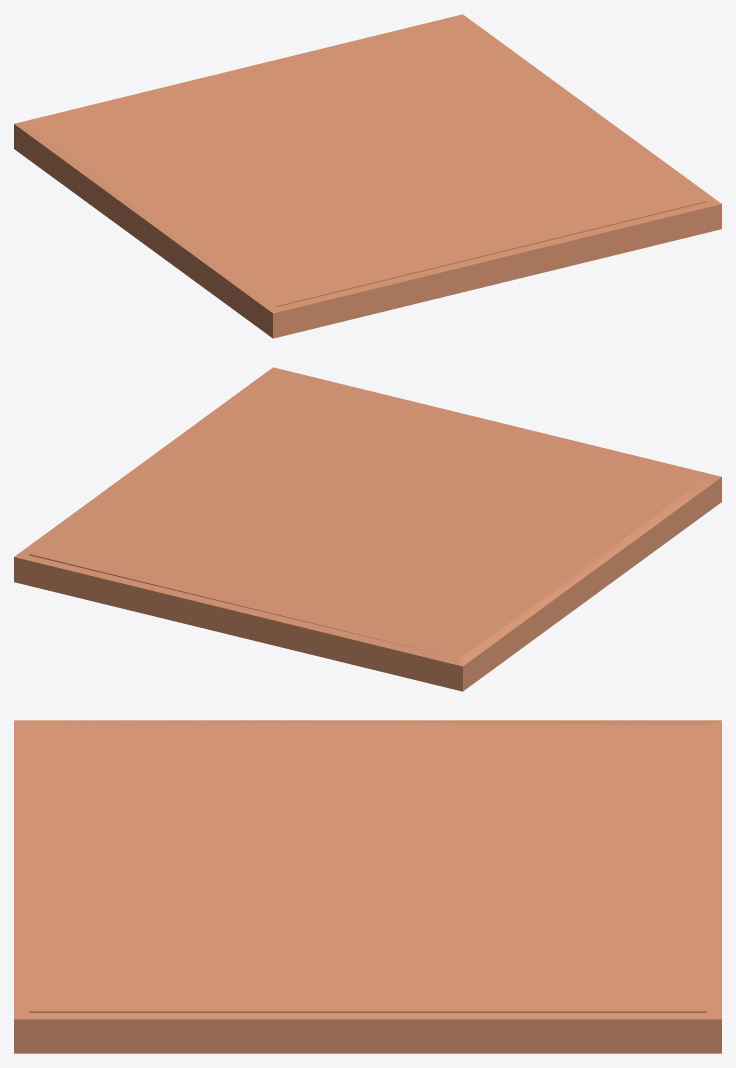
File: dirt_patch.fbx
The picture shows the model from 3 angles, top to bottom: view 1: azimuth 30°, elevation 25°; view 2: azimuth 150°, elevation 25°; view 3: azimuth 270°, elevation 25°; orthographic projection. The views are drawn at different scales.
Parts seen in each view (by area): view 1: wood; view 2: wood; view 3: wood.
Part boxes in pixels (bbox=[...]): wood: bbox=[14, 14, 721, 338]; wood: bbox=[14, 367, 721, 691]; wood: bbox=[14, 720, 721, 1053].
Size of the model in its own units: 308 by 19.5 by 308.
